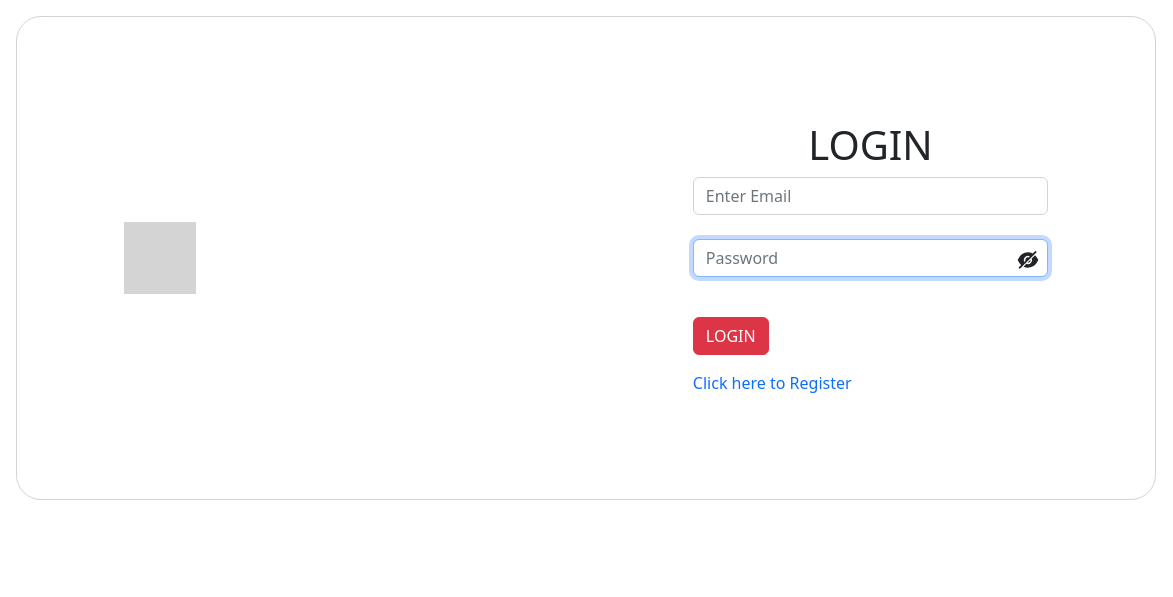
LoginScreen › renders with invalid inputs › validate the password should lesser then 12
This screenshot has width=1173, height=597.
Type "tester12598745" into the password field with placeholder "Password" at (870, 258), box [693,239,1048,277]
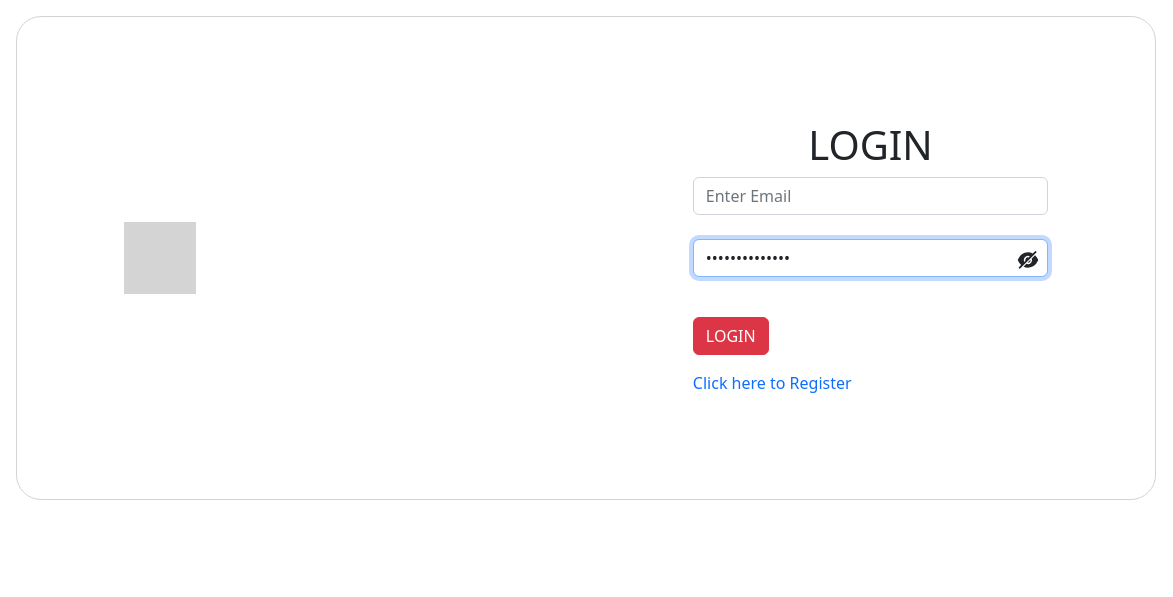
Submit the form from the button, box [693,317,769,355]
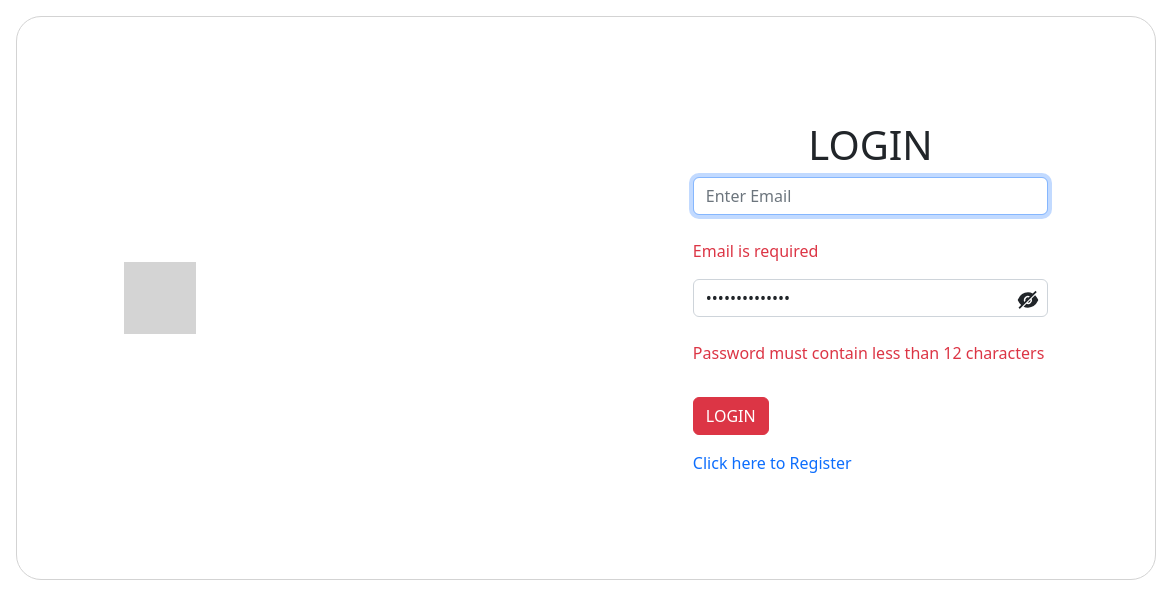
Expected: the text "Password must contain less than 12 characters" is shown, [693,342,1044,364]
